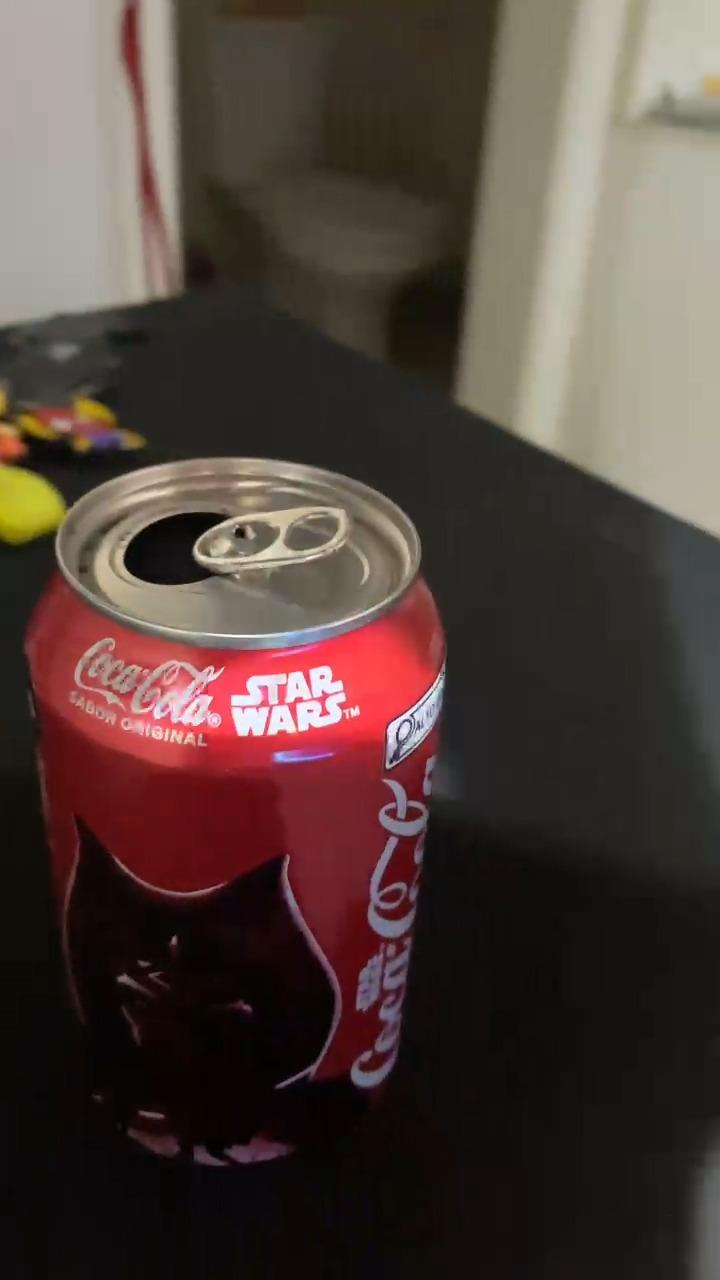coke: (25, 457, 443, 1163)
